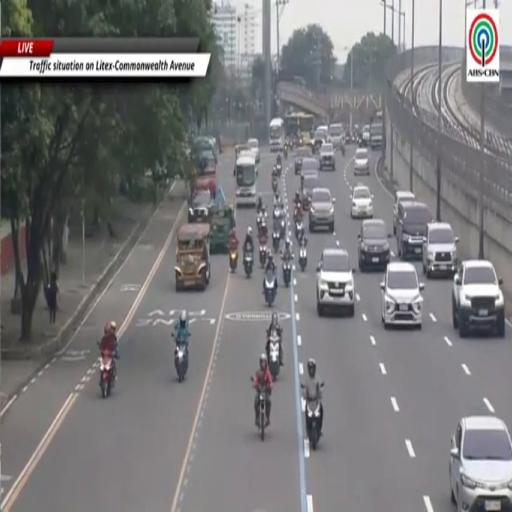bus: (236, 153, 257, 206), (285, 112, 314, 143), (270, 118, 285, 152)
car: (450, 415, 511, 511), (453, 260, 505, 338), (381, 262, 424, 329), (316, 248, 354, 316), (396, 201, 433, 260), (423, 222, 458, 278), (358, 219, 391, 270), (309, 187, 335, 232), (392, 190, 416, 235), (188, 189, 212, 223), (351, 184, 373, 218), (301, 172, 320, 211), (294, 148, 311, 174), (320, 142, 335, 170), (328, 123, 344, 149), (354, 149, 369, 175), (370, 120, 383, 149), (312, 128, 327, 153), (301, 156, 319, 174), (248, 138, 260, 164), (362, 125, 369, 147)
jeepney: (175, 223, 210, 291), (210, 204, 235, 254), (191, 152, 216, 197), (236, 144, 250, 157)
motorcycle: (306, 400, 320, 450), (268, 329, 281, 380), (100, 351, 114, 398), (174, 343, 188, 381), (258, 387, 267, 441), (264, 269, 276, 307), (282, 260, 292, 287), (243, 252, 253, 278), (295, 219, 305, 241), (298, 245, 306, 271), (257, 213, 266, 235), (257, 218, 267, 237), (259, 245, 267, 268), (230, 250, 238, 271), (273, 231, 280, 252), (294, 205, 303, 221), (273, 205, 283, 219), (280, 218, 286, 238), (272, 177, 278, 193), (276, 164, 282, 177), (284, 146, 288, 158), (341, 144, 345, 156)
